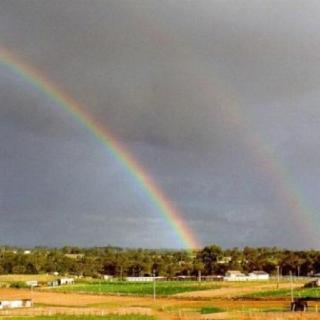Nimbostratus: (3, 0, 320, 244)
